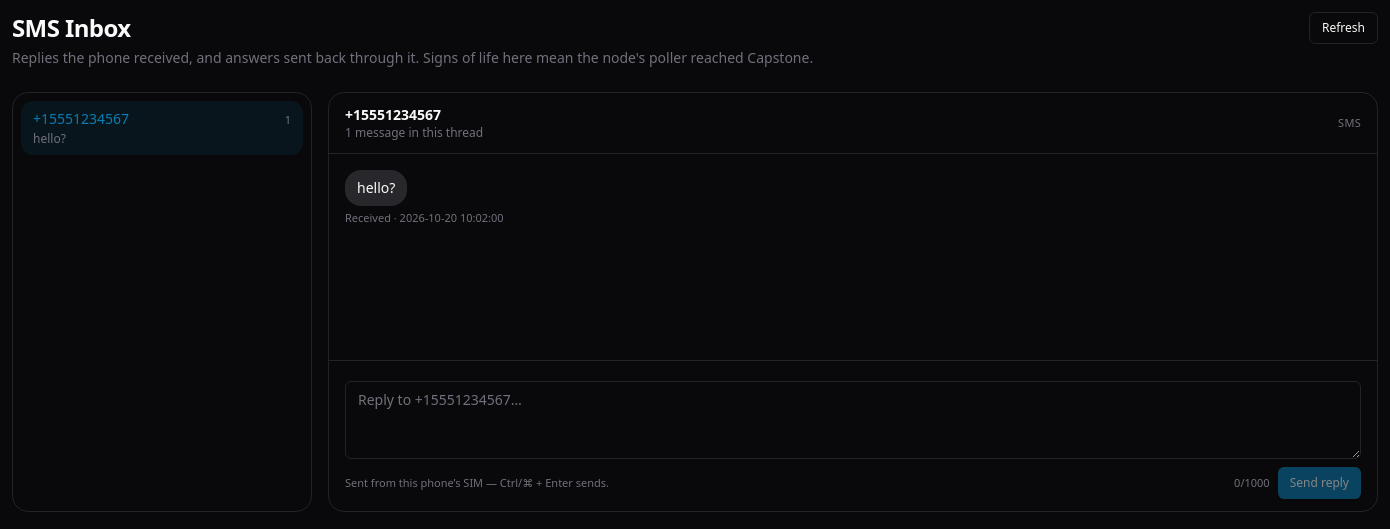
Test: SMS Inbox › shows the phone’s reason when the reply is not sent
Expected: the text "hello?" below "message" is shown, [357,178,395,197]
Type "trying" into the text box labelled "Reply to +15551234567" at {"x": 853, "y": 420}, box [345,381,1361,459]
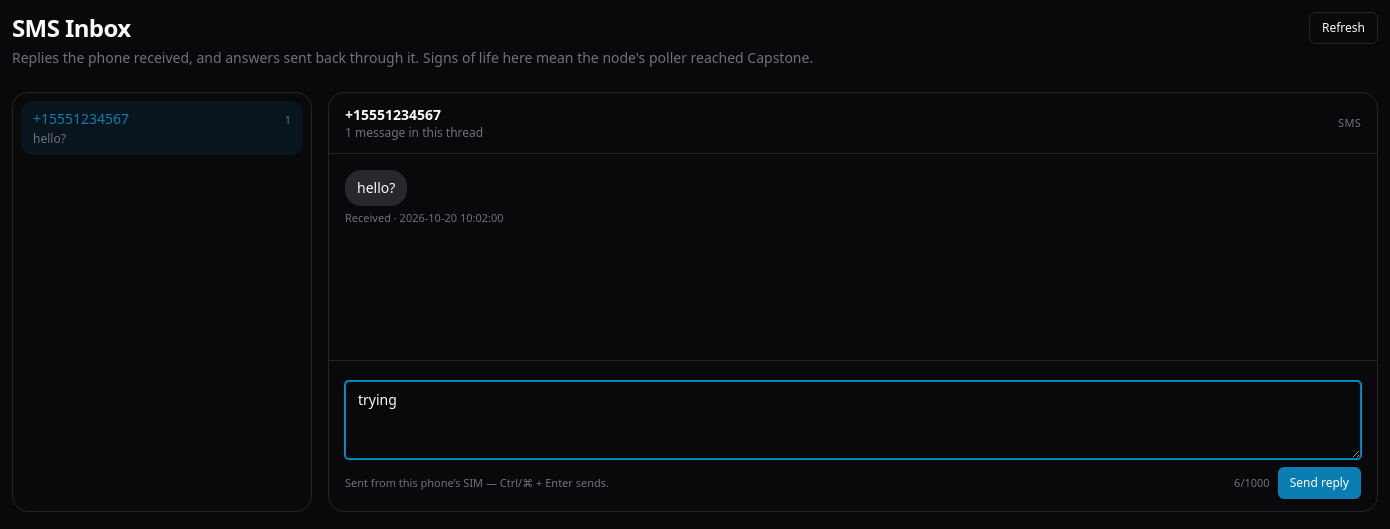
Click the button "Send reply" at {"x": 1319, "y": 483}, box [1278,467,1361,499]
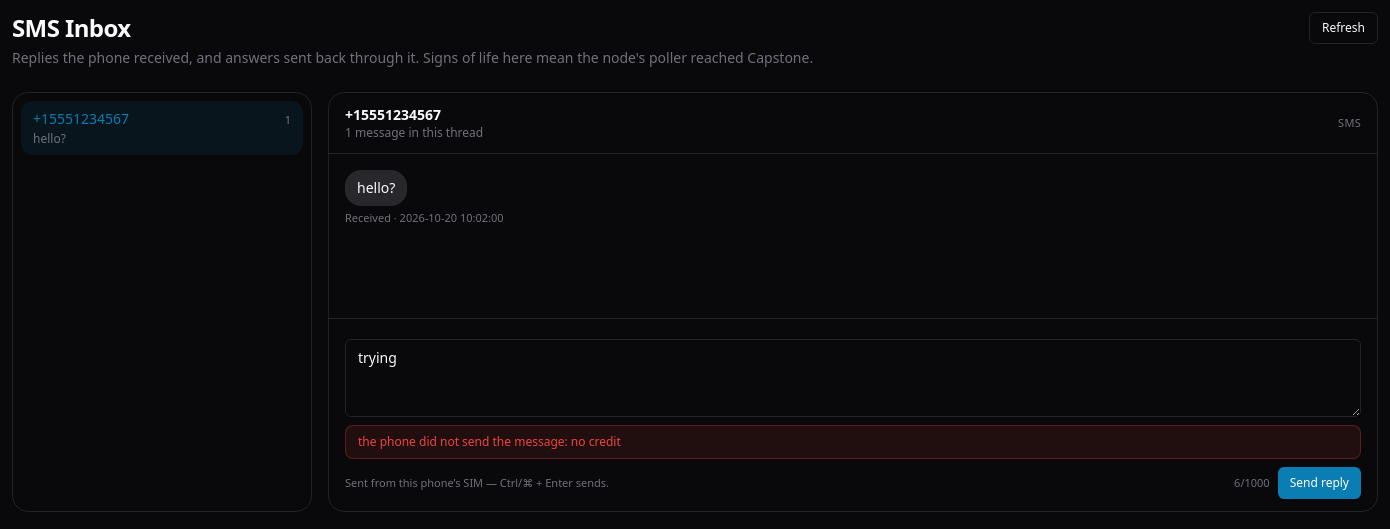
Expected: the message shows "no credit", [358,433,621,450]
